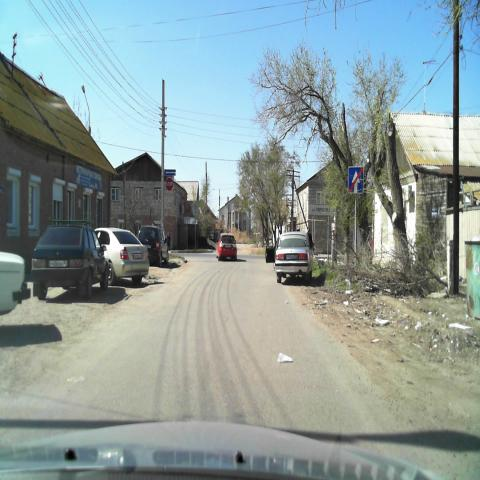2_5: (165, 176, 173, 191)
